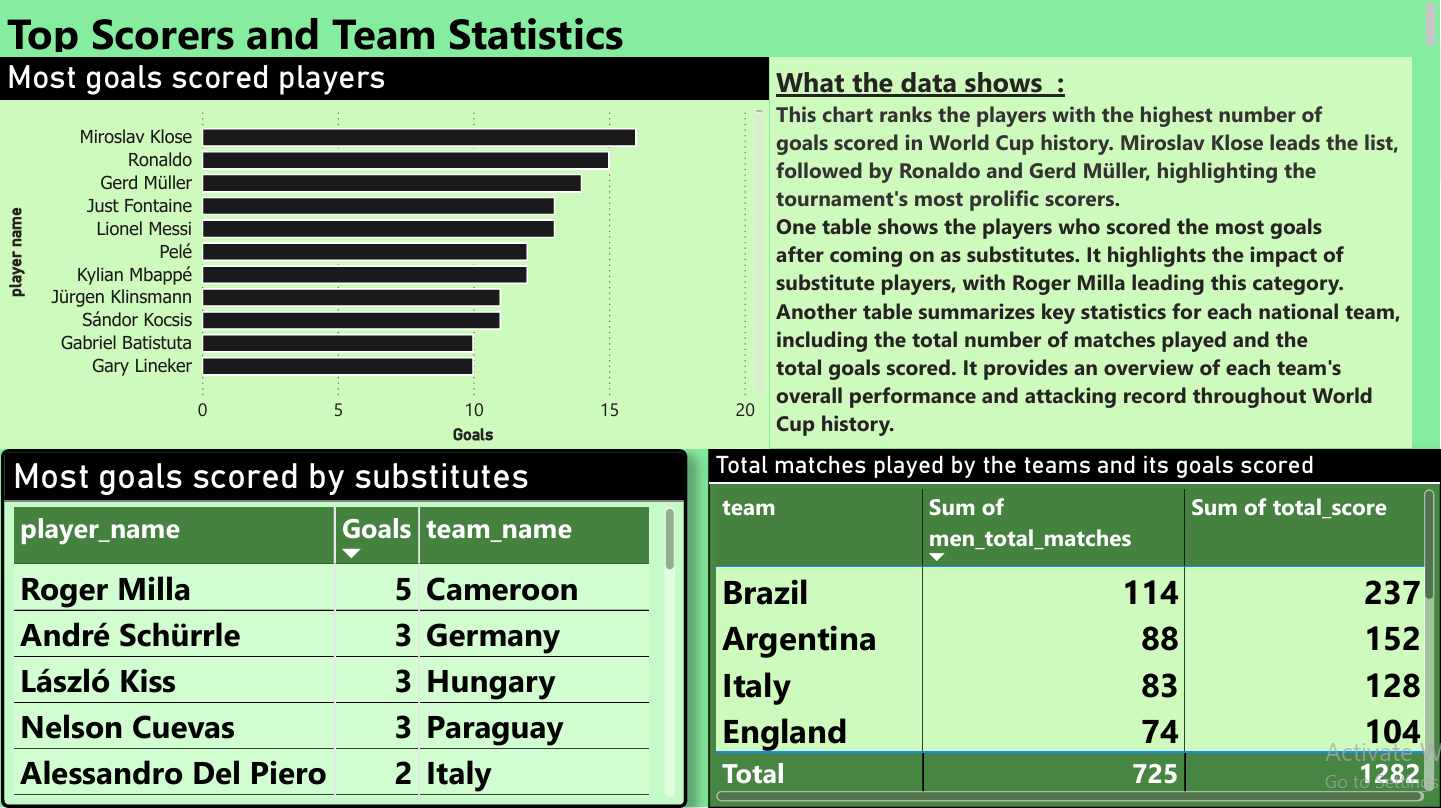

This screenshot's page, from the dashboard's own definition file:
{"tool":"powerbi","page":{"name":"Page 3","canvas":[1280,720],"ordinal":2},"visuals":[{"type":"tableEx","title":"Total matches played by the teams and its goals scored","fields":{"Values":["men_total_matches.team","Sum(men_total_matches.men_total_matches)","Sum(men_total_score.total_score)"]},"box":[628.6,400.5,651.5,319.7],"z":0},{"type":"tableEx","title":"Most goals scored by substitutes","fields":{"Values":["men_super_sub.player_name","men_super_sub.Goals","men_super_sub.team_name"]},"box":[0,400.5,610.5,319.7],"z":1000},{"type":"clusteredBarChart","title":"Most goals scored players","fields":{"Category":["men_goals_scorers.player_name"],"Y":["CountNonNull(men_goals_scorers.player_name)"]},"box":[0,53.1,682.8,347.5],"z":2000},{"type":"textbox","box":[683.8,52.5,570,347.5],"z":3000},{"type":"textbox","box":[0,0,1280,53.1],"z":4000}]}

Visuals, with their boxes on the page's 1280x720 design canvas (x1, y1, x2, y2). These are canvas units, not pixel positions in the 1441x808 screenshot, which may show the page scaled, cropped or inside an application window:
"Total matches played by the teams and its goals scored" tableEx: 629,400,1280,720
"Most goals scored by substitutes" tableEx: 0,400,610,720
"Most goals scored players" clusteredBarChart: 0,53,683,401
textbox: 684,52,1254,400
textbox: 0,0,1280,53
